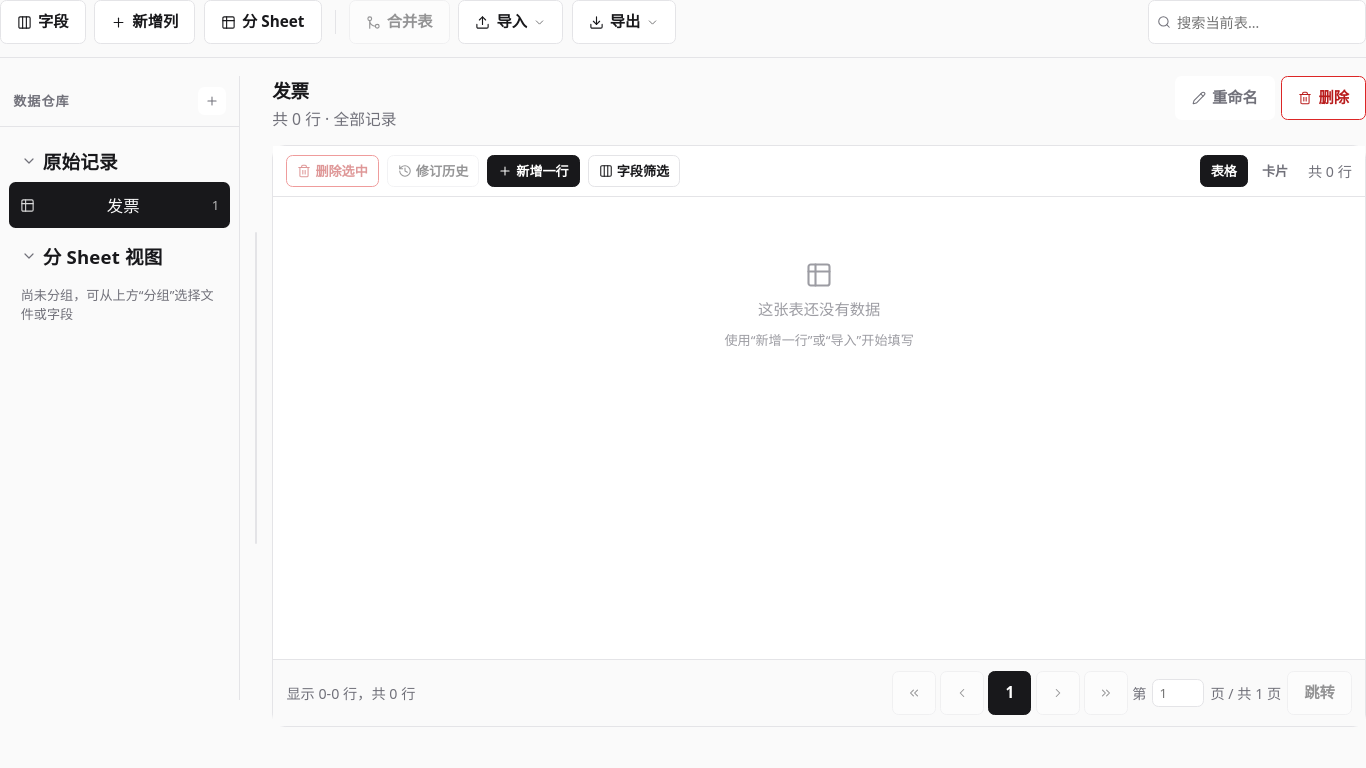
DataTablePage › creates split-sheet views without copying fact rows
Click the button "分 Sheet". click: (263, 22)
box: [204,0,322,44]
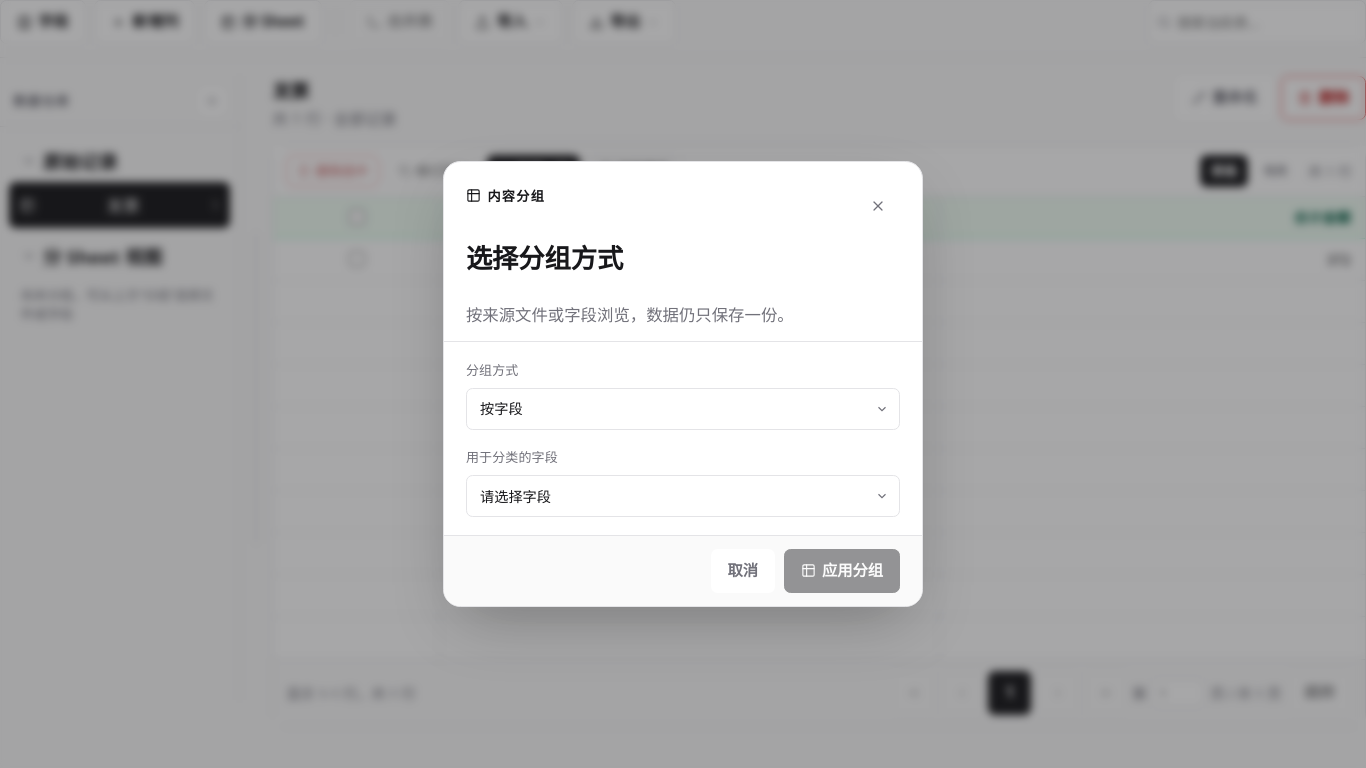
Select "销售方" in the dropdown labelled "用于分类的字段". click: (683, 496)
box: [466,475,900,517]
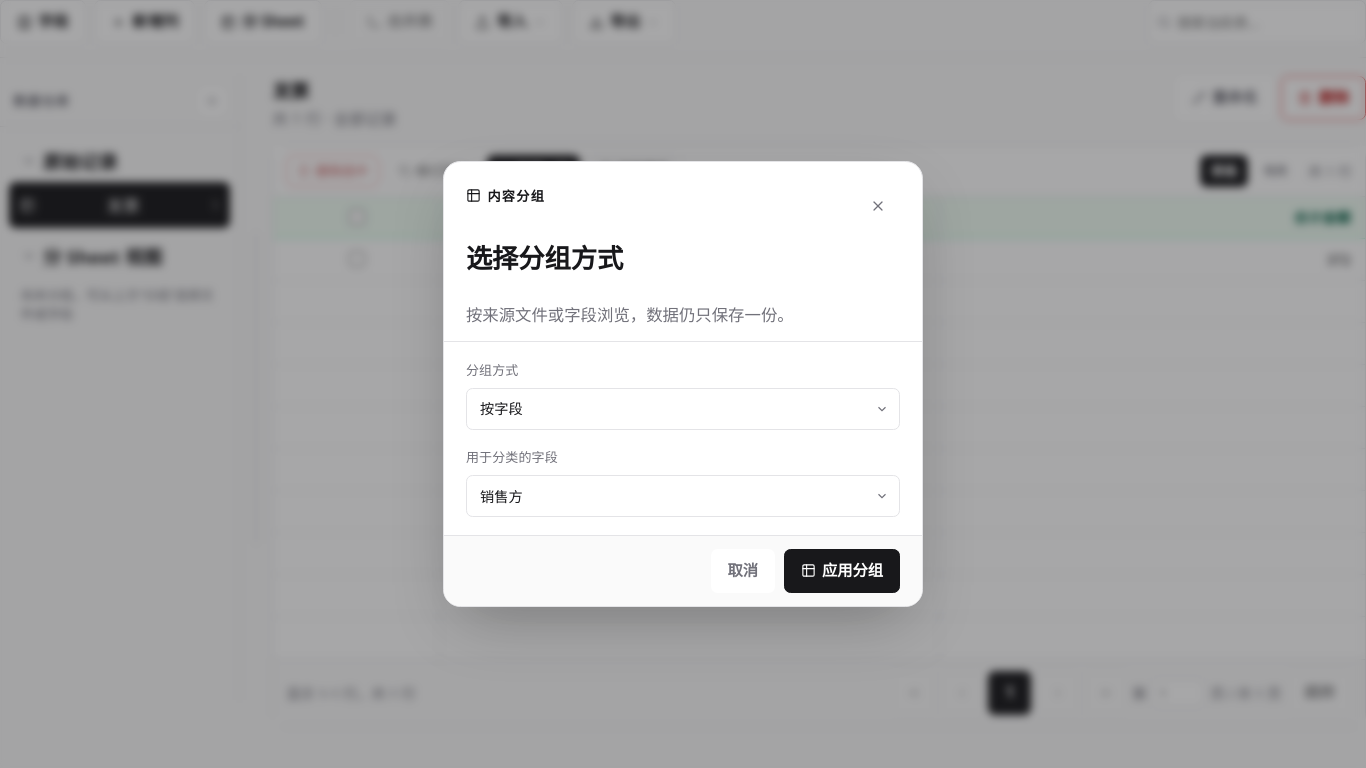
Click the button "应用分组". click: (842, 571)
box: [784,549,900,593]
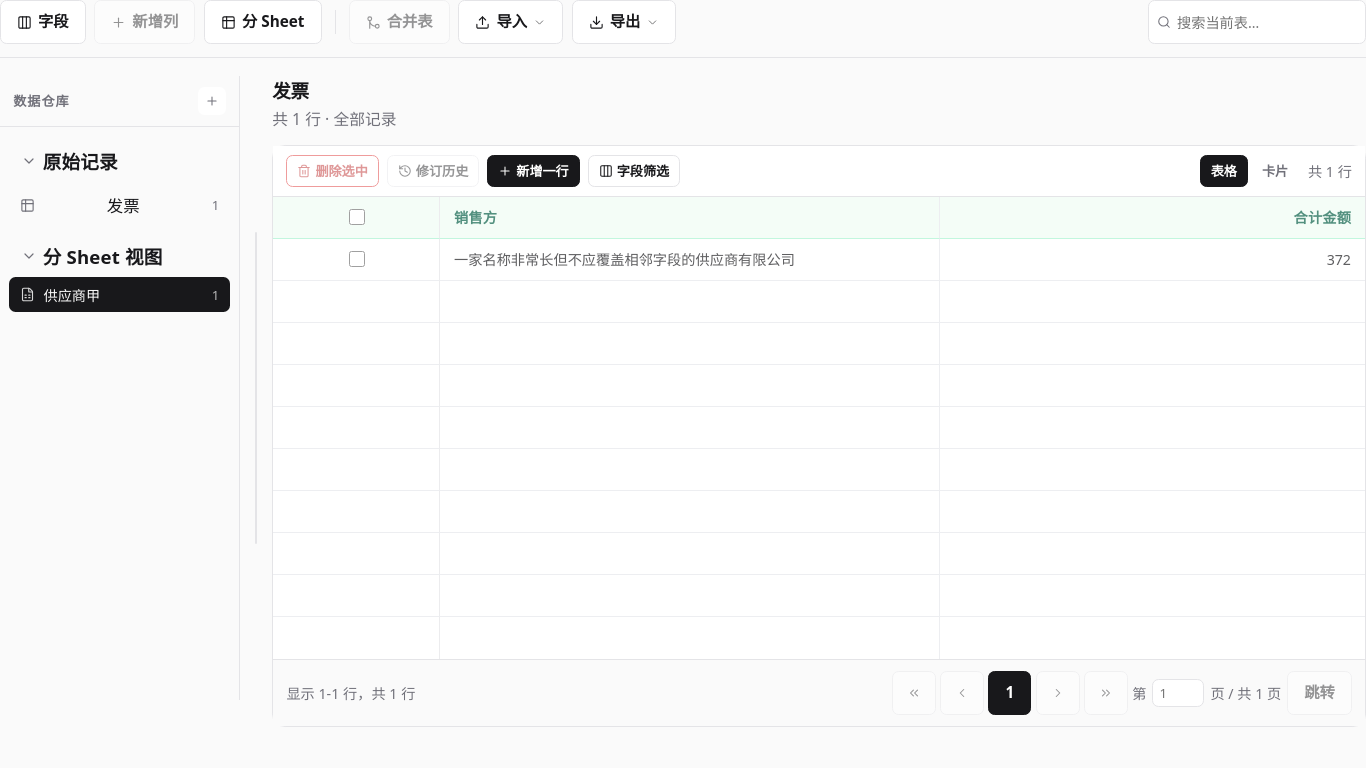
Click the button "供应商甲 1". click: (120, 295)
box: [9,277,230,312]
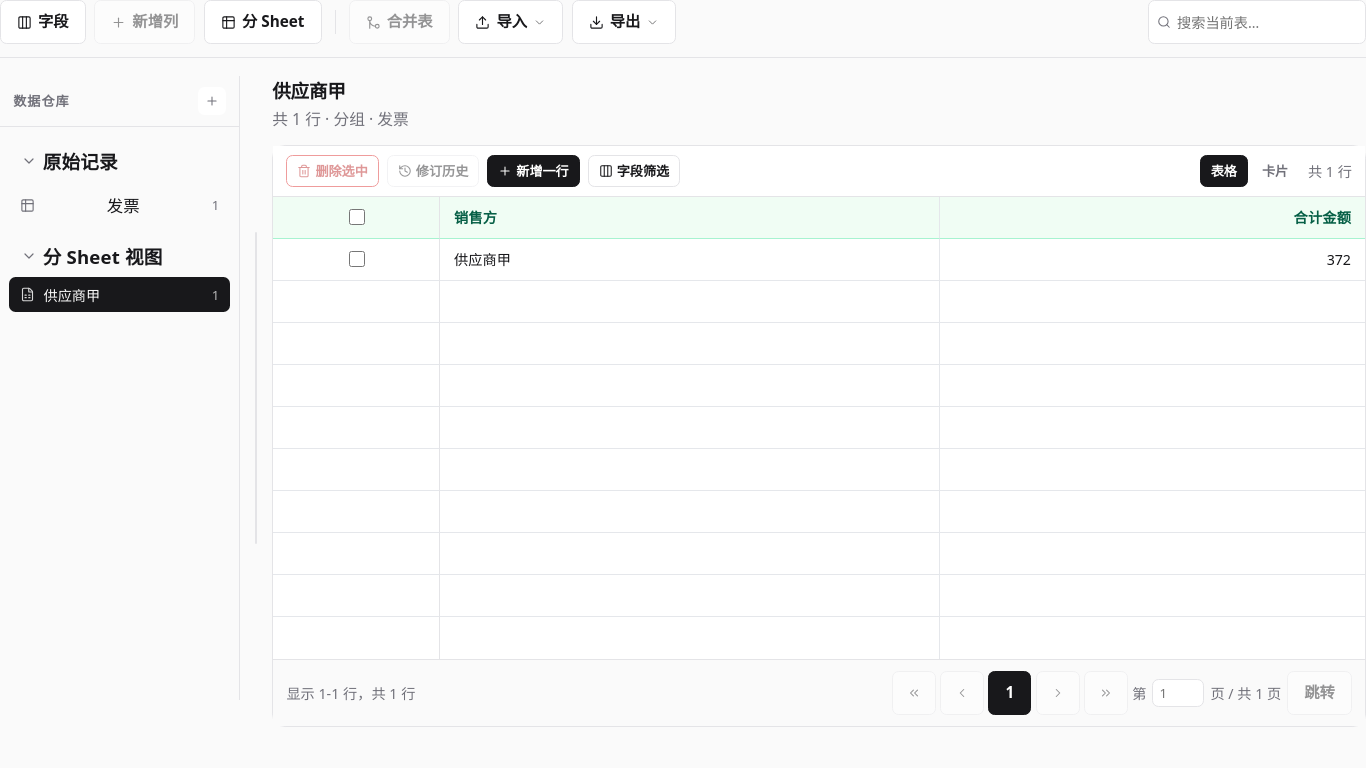
expect the text "分组 · 发票" is shown: met, box [333,108,409,130]
